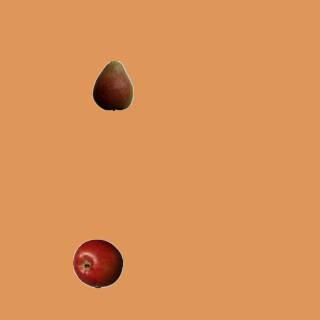Apple Braeburn: (72, 238, 122, 288)
Pear Forelle: (87, 60, 137, 110)
